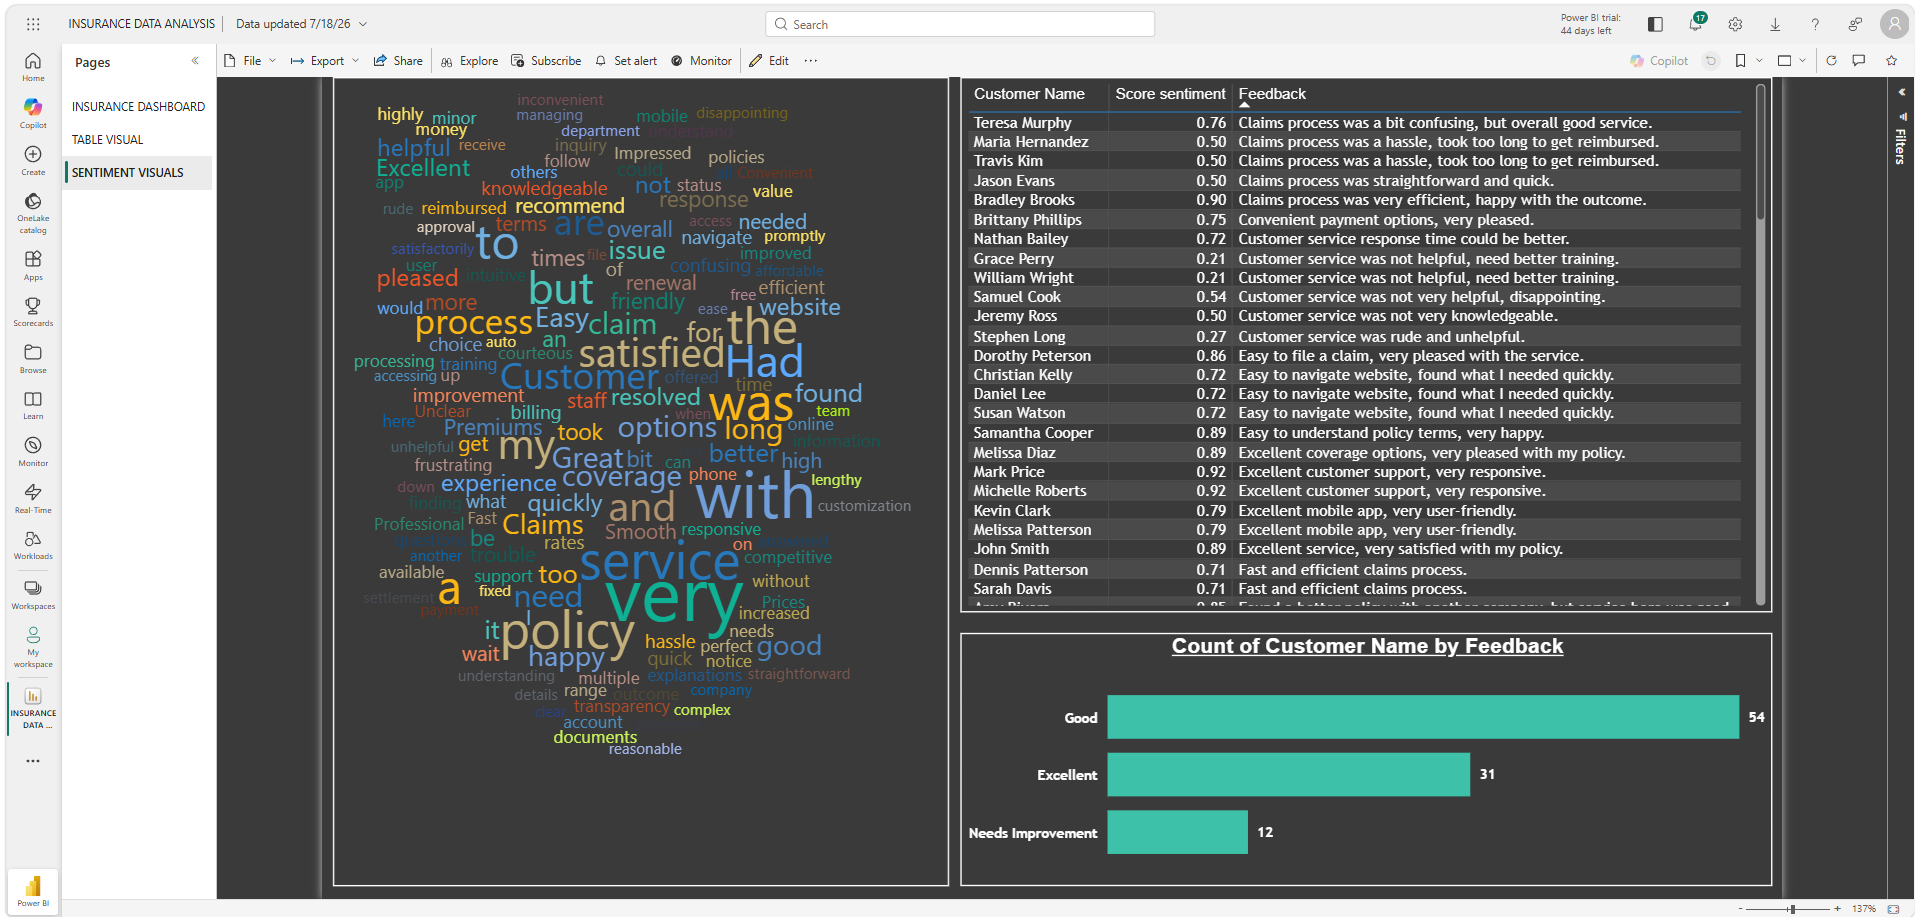

Layout of this report page (visuals, bound fields, positions):
{"tool":"powerbi","page":{"name":"SENTIMENT VISUALS","canvas":[1280,720],"ordinal":2},"visuals":[{"type":"WordCloud1447959067750","fields":{"Category":["Sheet1.Feedback"],"Values":["CountNonNull(Sheet1.Feedback)"]},"box":[9.8,0,539.9,709.2],"z":0},{"type":"barChart","title":"Count of Customer Name by  Feedback","fields":{"Category":["Sheet1.Good/Imrpovement"],"Y":["CountNonNull(Sheet1.Customer Name)"]},"box":[559.5,487.1,711.7,222.1],"z":1000},{"type":"tableEx","fields":{"Values":["Sheet1.Customer Name","Sheet1.Score sentiment","Sheet1.Feedback"]},"box":[559.5,0,712,468.8],"z":2000}]}

Visuals, with their boxes on the page's 1280x720 design canvas (x1, y1, x2, y2). These are canvas units, not pixel positions in the 1917x917 screenshot, which may show the page scaled, cropped or inside an application window:
WordCloud1447959067750 - Sheet1.Feedback x CountNonNull(Sheet1.Feedback): (10,0,550,709)
"Count of Customer Name by  Feedback" barChart: (560,487,1271,709)
tableEx - Sheet1.Customer Name x Sheet1.Score sentiment: (560,0,1272,469)
